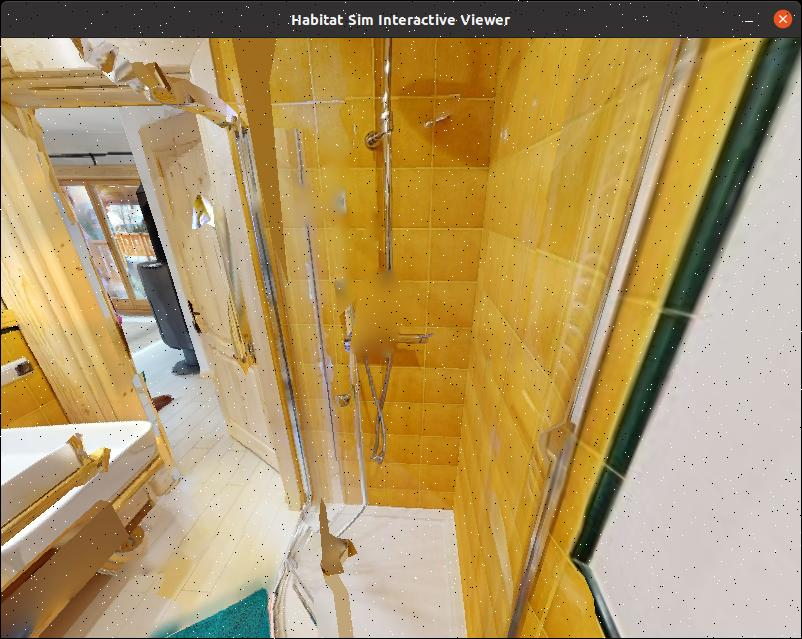door-frame: (19, 109, 294, 475)
shower: (227, 29, 693, 639)
